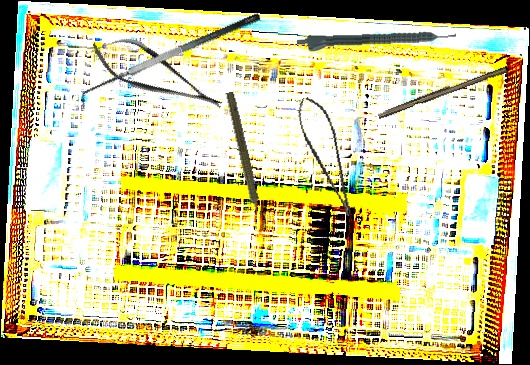Handpiece: (220, 90, 266, 224), (296, 30, 457, 54)
Micro Scissor: (83, 23, 231, 128), (293, 92, 356, 223)
Scalpel Handle: (376, 62, 508, 122)
Spatula Surgical: (74, 11, 268, 110)
